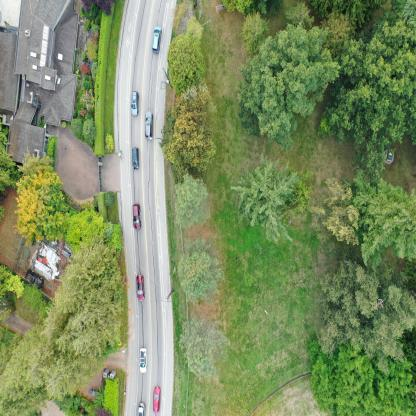Coniferous Tree: (0, 298, 69, 390), (16, 336, 108, 404), (237, 159, 311, 239), (360, 173, 416, 273), (322, 262, 375, 362), (54, 240, 113, 326), (62, 275, 122, 355), (168, 92, 215, 174), (381, 266, 416, 362), (175, 239, 225, 304), (320, 181, 357, 254), (180, 318, 221, 382), (166, 33, 204, 93), (173, 176, 205, 222), (307, 0, 384, 19), (19, 150, 57, 177), (241, 12, 268, 40), (286, 5, 312, 25), (0, 164, 18, 190), (186, 15, 204, 39), (0, 141, 16, 166), (83, 116, 97, 144), (221, 0, 249, 13), (69, 116, 82, 139), (86, 40, 98, 60)
Deciduous Tree: (339, 0, 416, 159), (243, 35, 331, 150), (307, 345, 370, 416), (13, 178, 66, 240), (381, 350, 416, 413), (66, 202, 104, 246)
